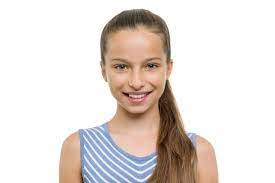person: (99, 8, 174, 117)
